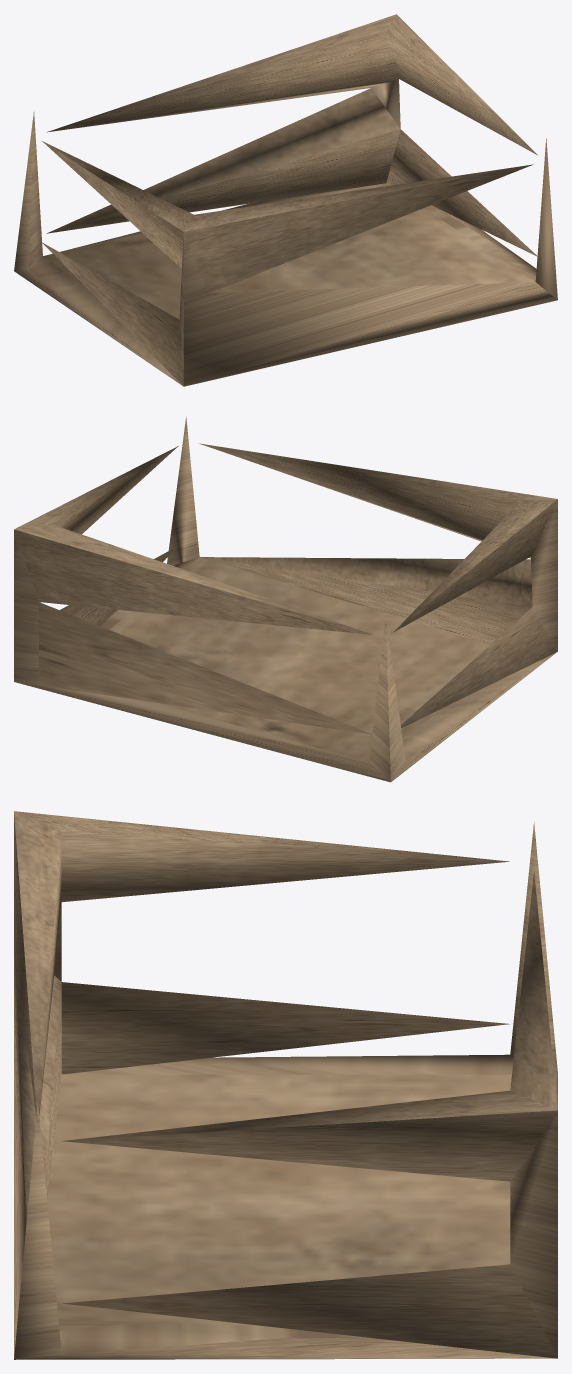
Rendered from empty_box_2.fbx.
The picture shows the model from 3 angles, top to bottom: view 1: azimuth 30°, elevation 25°; view 2: azimuth 150°, elevation 25°; view 3: azimuth 270°, elevation 25°; orthographic projection. The views are drawn at different scales.
Visible parts, largest first — view 1: Cube; view 2: Cube; view 3: Cube.
Boxes of the visible parts, <box> form: Cube: <box>14,14,557,386</box>; Cube: <box>14,416,557,782</box>; Cube: <box>14,811,557,1359</box>.
Size of the model in its own units: 60.04 by 24.53 by 46.12.
